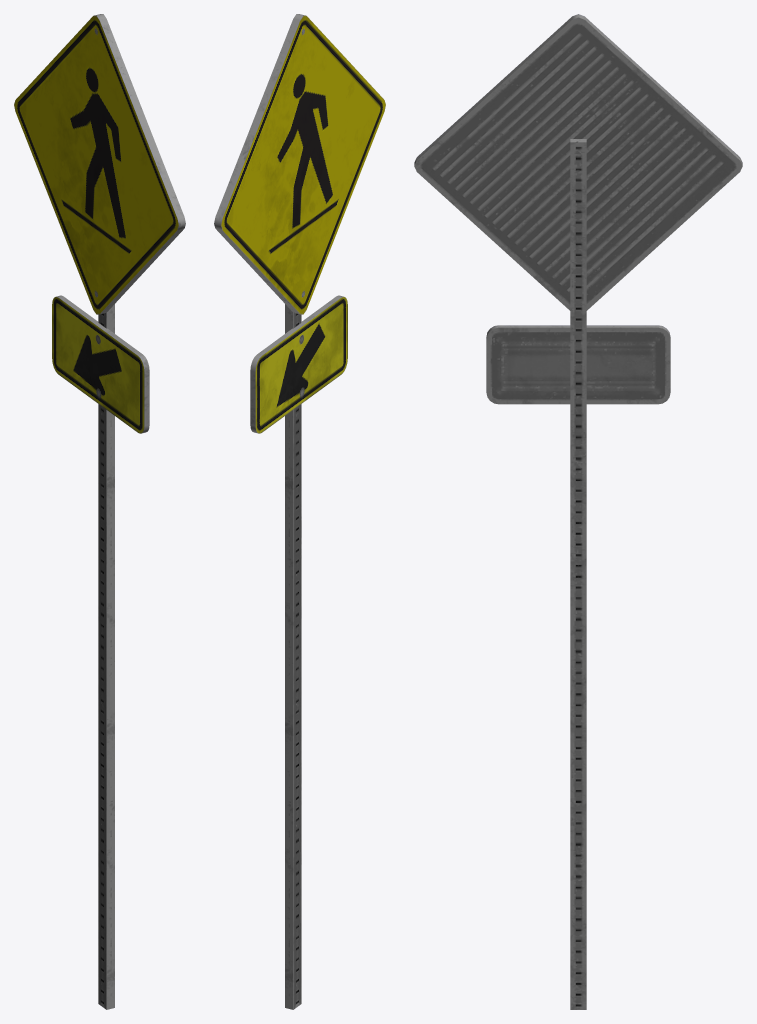
The model's file is MB_Sign_Pedestrian_Crossing.fbx.
3 renders of one model, left to right at view 1: azimuth 30°, elevation 25°; view 2: azimuth 150°, elevation 25°; view 3: azimuth 270°, elevation 25°, orthographic.
Visible parts, largest first — view 1: MB_Sign_Pedestrian_Crossing; view 2: MB_Sign_Pedestrian_Crossing; view 3: MB_Sign_Pedestrian_Crossing.
Boxes of the visible parts, <box> form: MB_Sign_Pedestrian_Crossing: <box>14,14,185,1009</box>; MB_Sign_Pedestrian_Crossing: <box>214,14,385,1009</box>; MB_Sign_Pedestrian_Crossing: <box>414,14,742,1009</box>.
Bounding box in the file's own units: 3.63 × 238 × 71.72.
